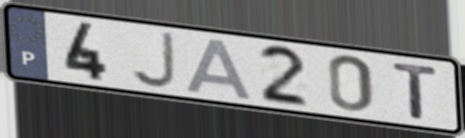0: (325, 53, 377, 116)
2: (256, 43, 312, 112)
4: (62, 20, 111, 82)
A: (183, 36, 257, 102)
J: (127, 30, 178, 91)
T: (390, 60, 442, 122)
